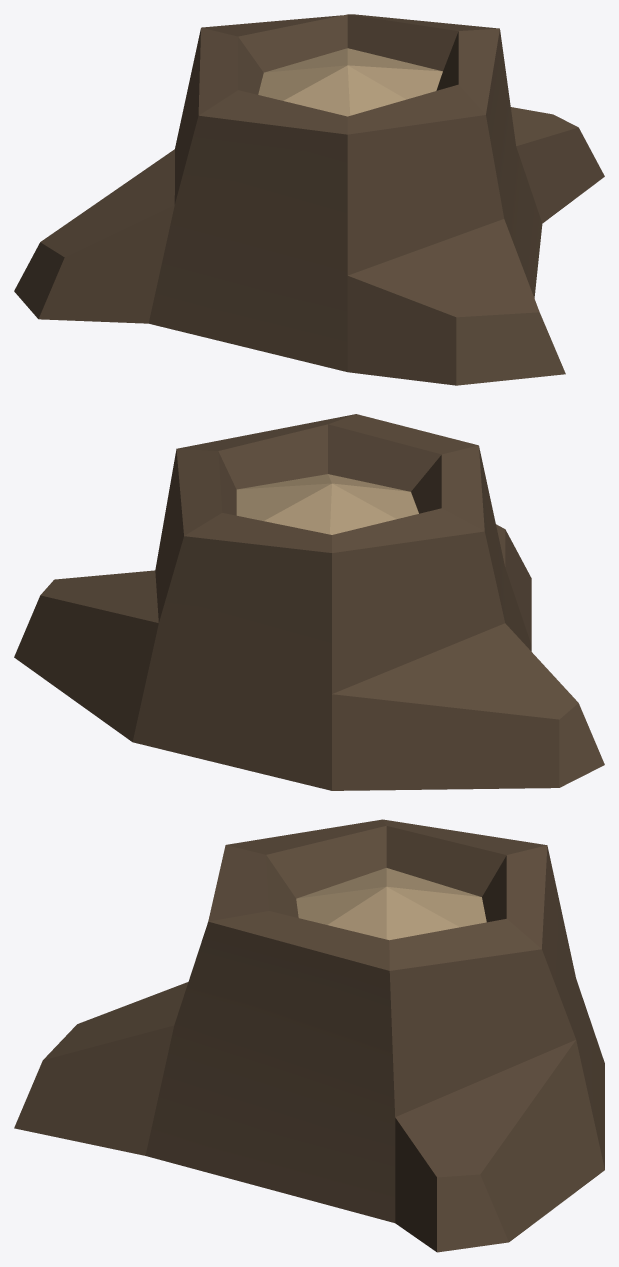
Rendered from SM_Env_Generic_Treestump_01.glb.
3 renders of one model, top to bottom at view 1: azimuth 30°, elevation 25°; view 2: azimuth 150°, elevation 25°; view 3: azimuth 270°, elevation 25°, orthographic. The views are drawn at different scales.
Visible parts, largest first — view 1: SM_Env_Generic_Treestump_01; view 2: SM_Env_Generic_Treestump_01; view 3: SM_Env_Generic_Treestump_01.
Boxes of the visible parts, <box> form: SM_Env_Generic_Treestump_01: <box>14,14,604,385</box>; SM_Env_Generic_Treestump_01: <box>14,414,604,790</box>; SM_Env_Generic_Treestump_01: <box>14,819,604,1252</box>.
Size of the model in its own units: 0.2494 by 0.09 by 0.2036.
Materials: 1 (1 with a texture image).
